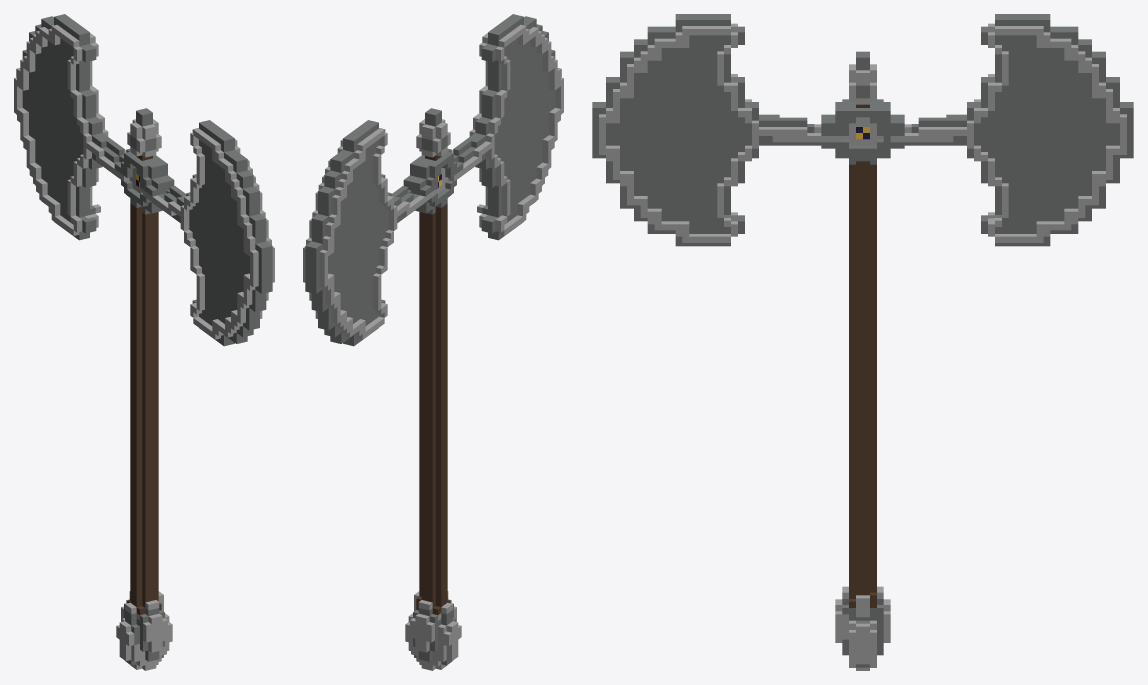
File: weapon_battleaxe.glb
The picture shows the model from 3 angles, left to right: view 1: azimuth 30°, elevation 25°; view 2: azimuth 150°, elevation 25°; view 3: azimuth 270°, elevation 25°; orthographic projection. The views are drawn at different scales.
Parts seen in each view (by area): view 1: weapon_battleaxe; view 2: weapon_battleaxe; view 3: weapon_battleaxe.
Boxes of the visible parts, bbox=[...] form: weapon_battleaxe: bbox=[14, 14, 274, 670]; weapon_battleaxe: bbox=[303, 14, 563, 670]; weapon_battleaxe: bbox=[592, 14, 1133, 670].
Size of the model in its own units: 0.8 by 10.3 by 7.8.
1 material, 1 textured.
